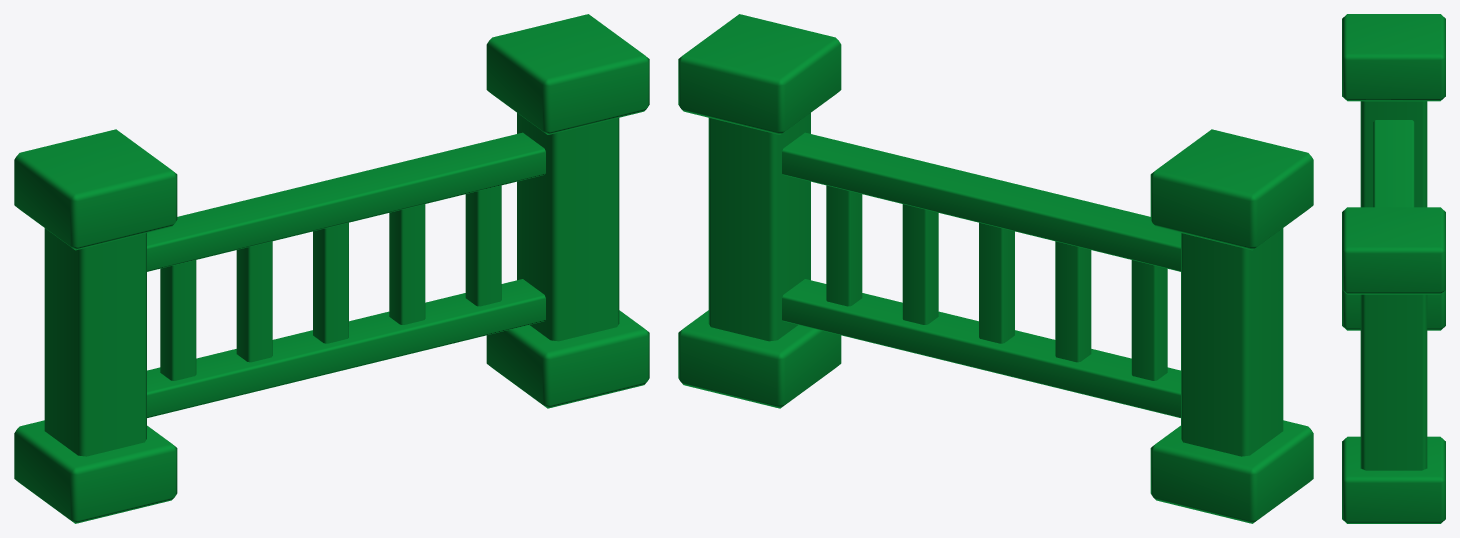
File: City_4_Fence_2.glb
3 renders of one model, left to right at view 1: azimuth 30°, elevation 25°; view 2: azimuth 150°, elevation 25°; view 3: azimuth 270°, elevation 25°, orthographic. The views are drawn at different scales.
Parts seen in each view (by area): view 1: City_4_Fence_2; view 2: City_4_Fence_2; view 3: City_4_Fence_2.
Part boxes in pixels (x1,y1,x2,y2): City_4_Fence_2: [14, 14, 649, 523]; City_4_Fence_2: [678, 14, 1313, 523]; City_4_Fence_2: [1342, 14, 1445, 523].
Size of the model in its own units: 2.33 by 1.27 by 0.432.
Materials: 1 (1 with a texture image).
